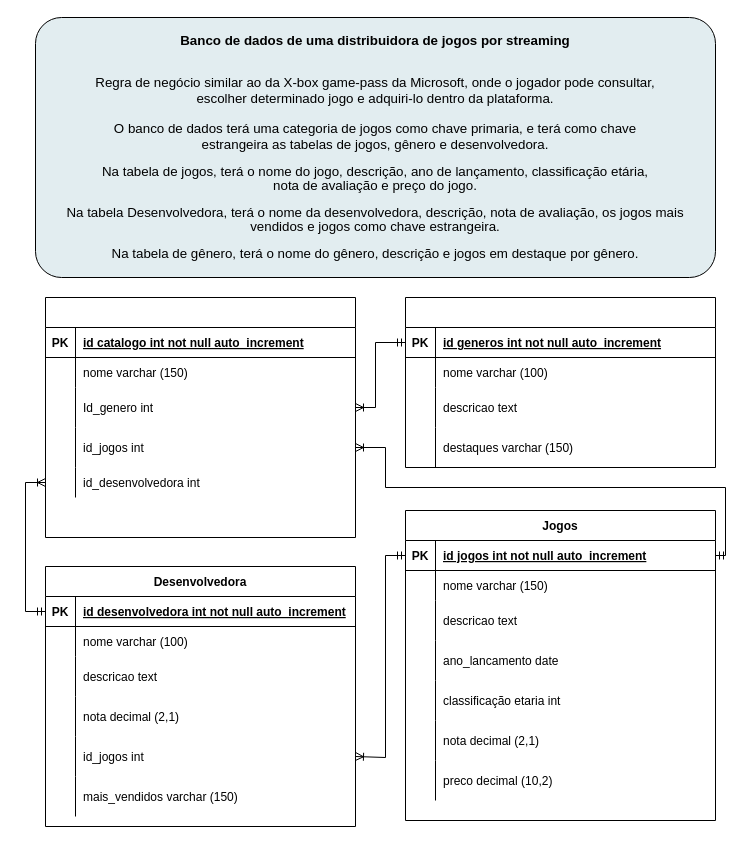
This 752x844 diagram has some shape labels left out. Here are the shapes that lost their labels. From the top down, the box of each, then its label:
(404, 296, 716, 468): Gênero
(44, 296, 356, 538): Catálogo de jogos
